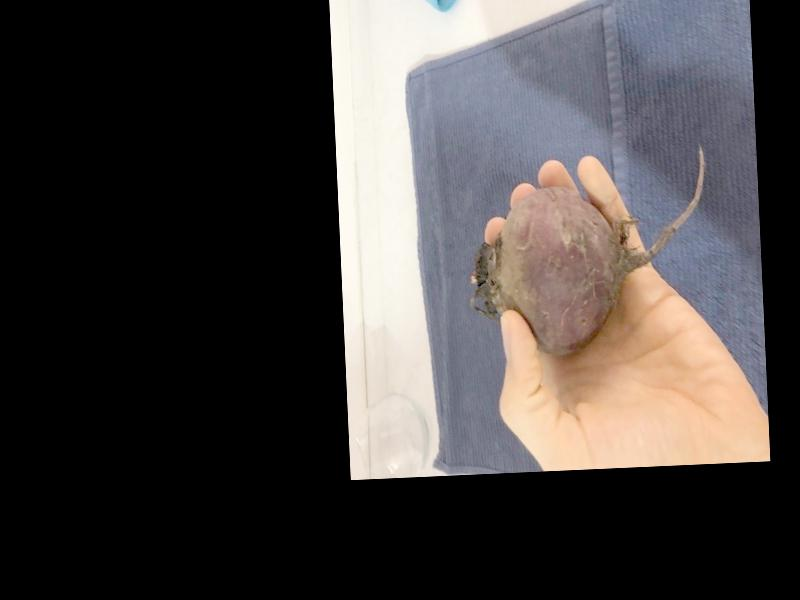Beet: (465, 143, 713, 361)
